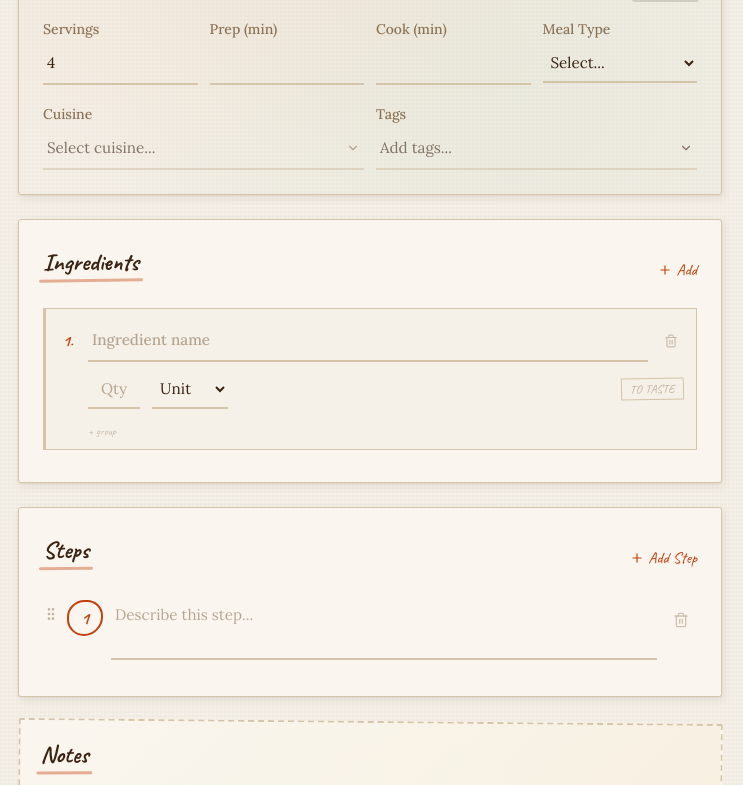
it: Recipe Add/Import (New) › N4: clicking 'to taste' replaces qty/unit with a stamp badge
This screenshot has width=743, height=785.
(page scrolled)
// Click the "to taste" toggle button
Click the button titled "Mark as 'to taste'" at (653, 389), box [621,378,684,401]
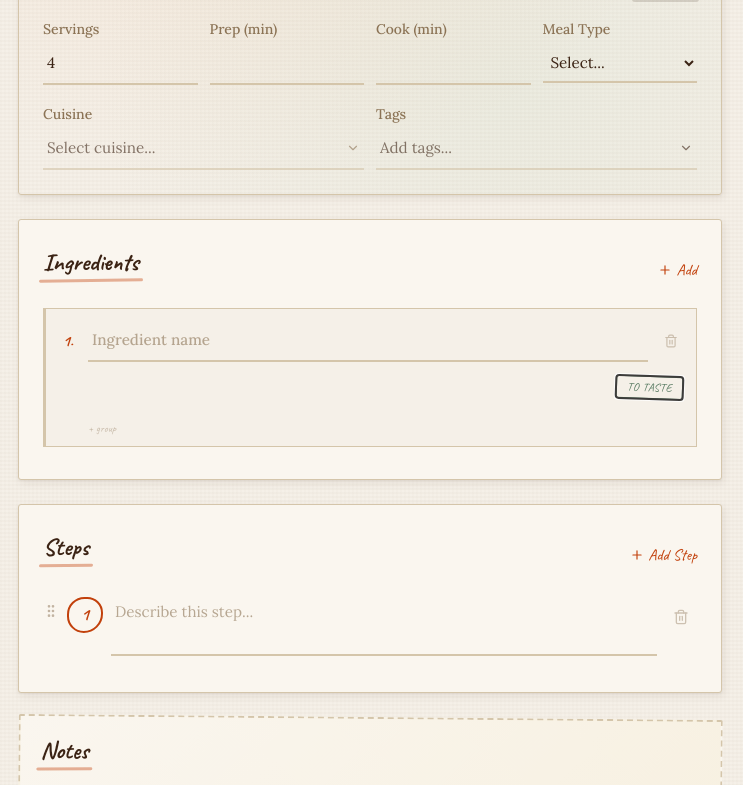
Check: the button "To taste" is shown, box [614,374,684,401]
Check: the field with placeholder "Qty" is gone
